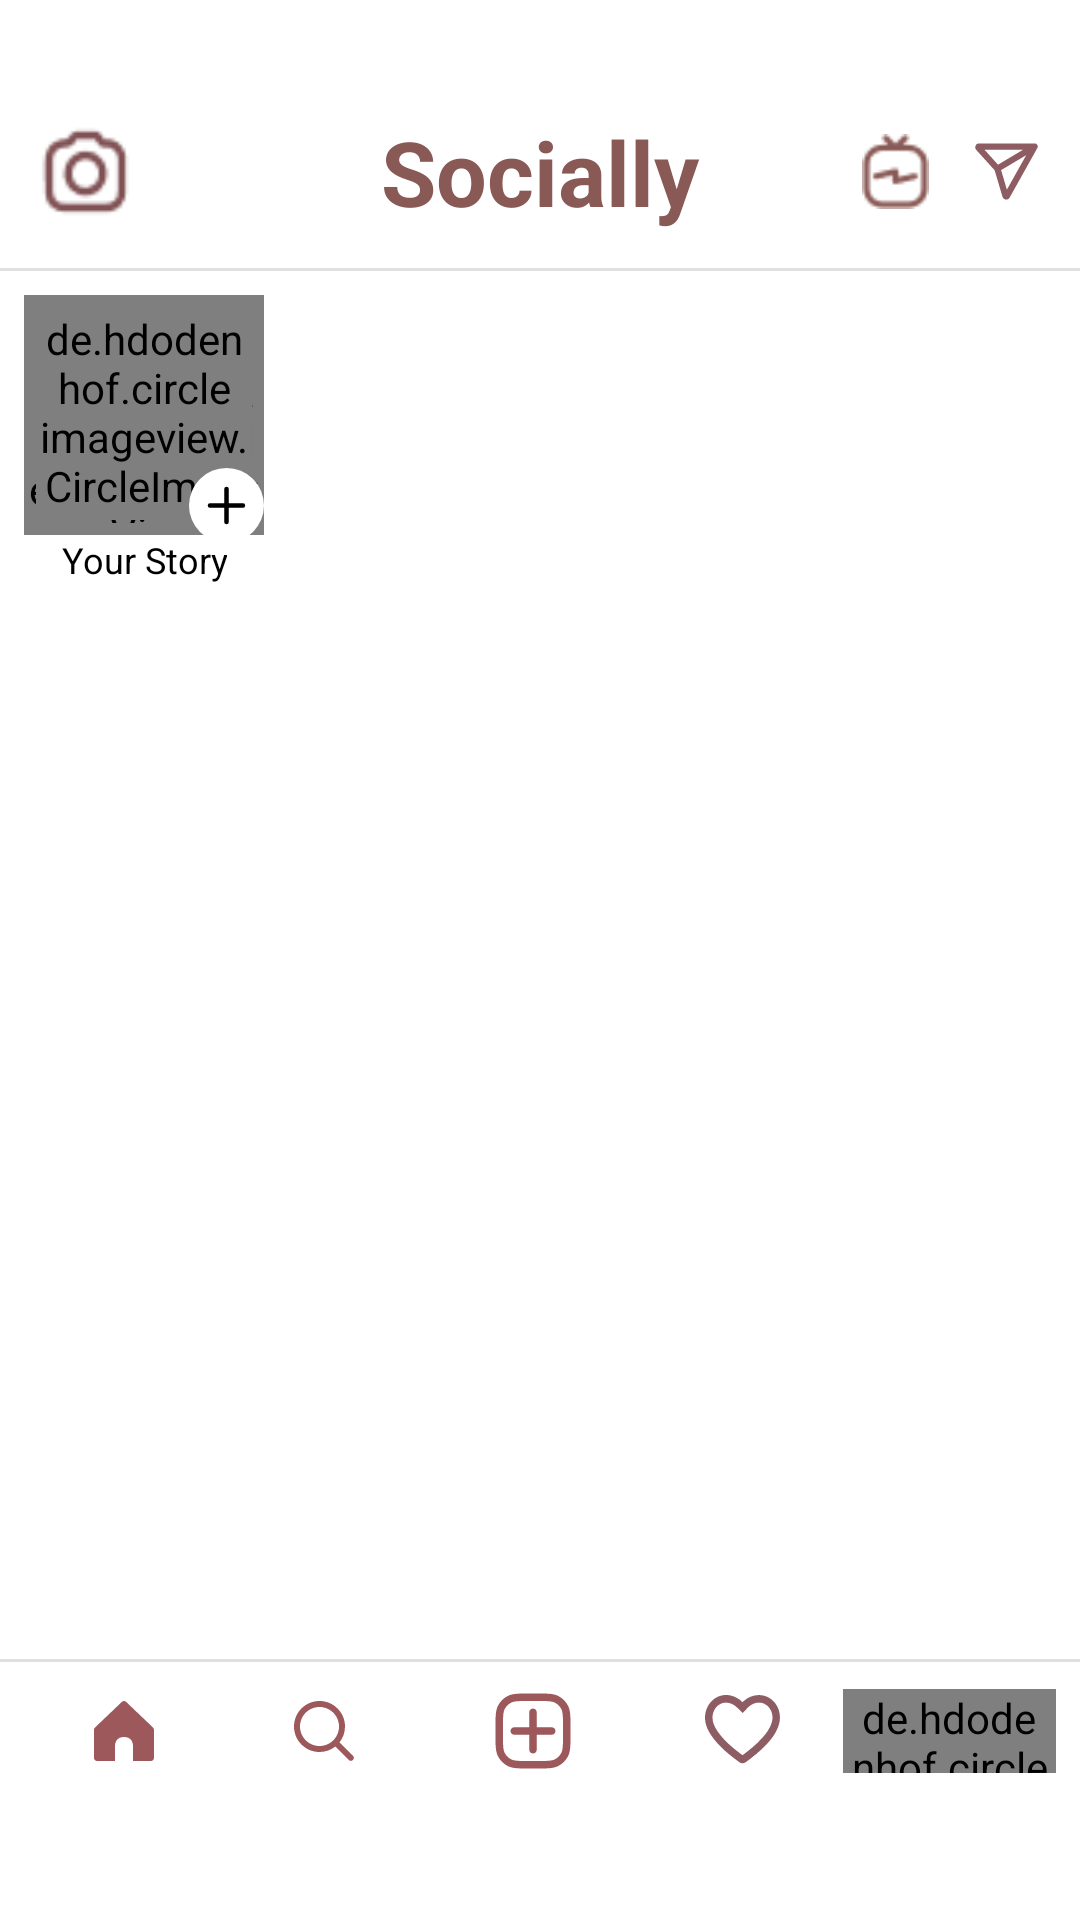

Named icons in this screenshot (1080px×1920px) and their centers, [x,y]:
camera: [85,171]
create: [533,1731]
home: [124,1731]
like: [742,1729]
search: [324,1731]
share: [1006,171]
